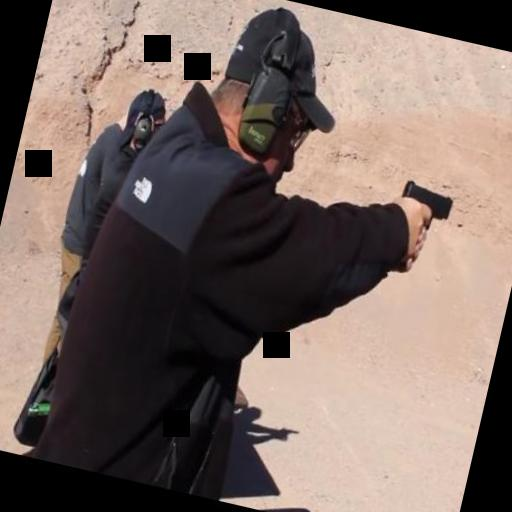Handgun: (381, 176, 459, 275)
